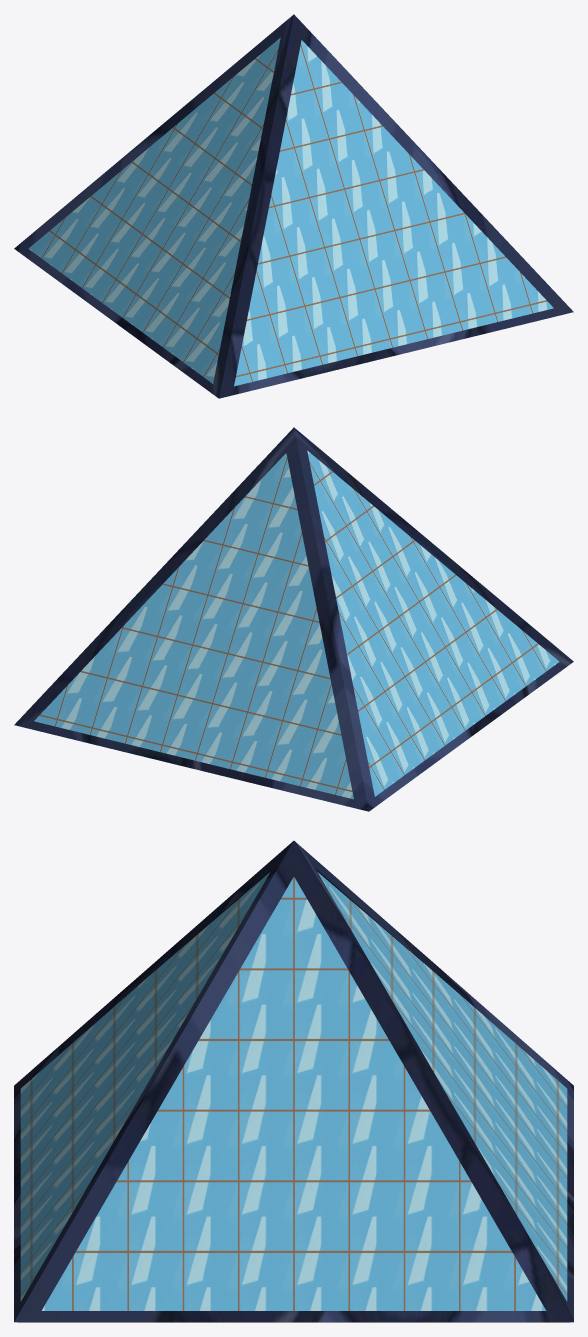
The model's file is Piramide.obj.
3 views of the same model, one above another, from view 1: azimuth 30°, elevation 25°; view 2: azimuth 150°, elevation 25°; view 3: azimuth 270°, elevation 25° (orthographic). The views are drawn at different scales.
Visible parts, largest first — view 1: Cone; view 2: Cone; view 3: Cone.
Part boxes in pixels (x1,y1,x2,y2): Cone: (14, 14, 573, 398); Cone: (14, 427, 573, 811); Cone: (14, 841, 573, 1322).
Bounding box in the file's own units: 21.5 × 15.47 × 21.5.
2 materials, 2 textured.
